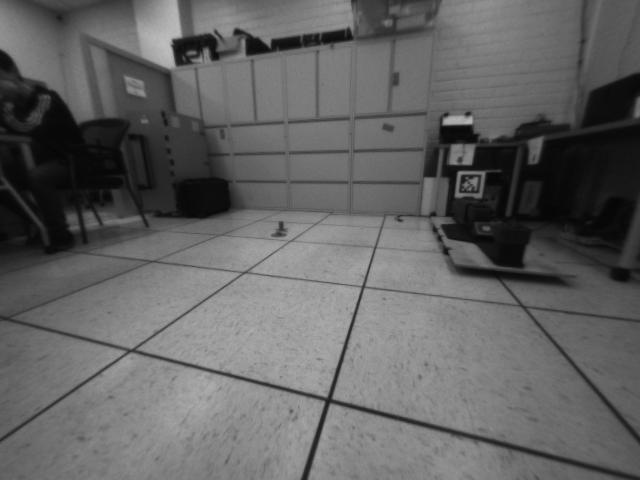X: (273, 220, 289, 232)
